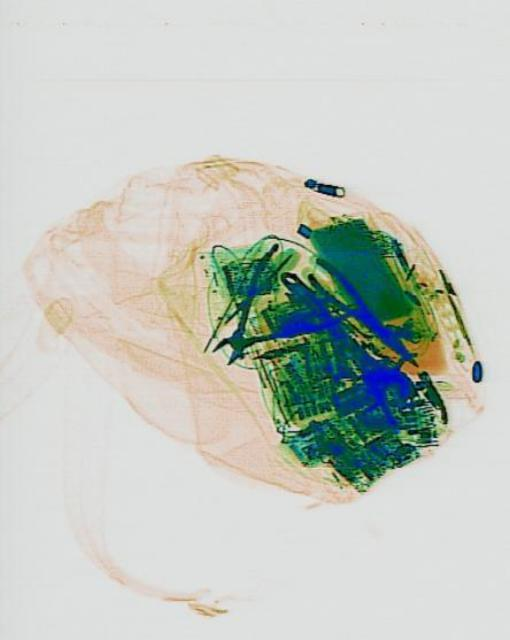Pliers: (187, 222, 351, 402), (300, 253, 423, 377)
Wrench: (267, 249, 418, 421)
